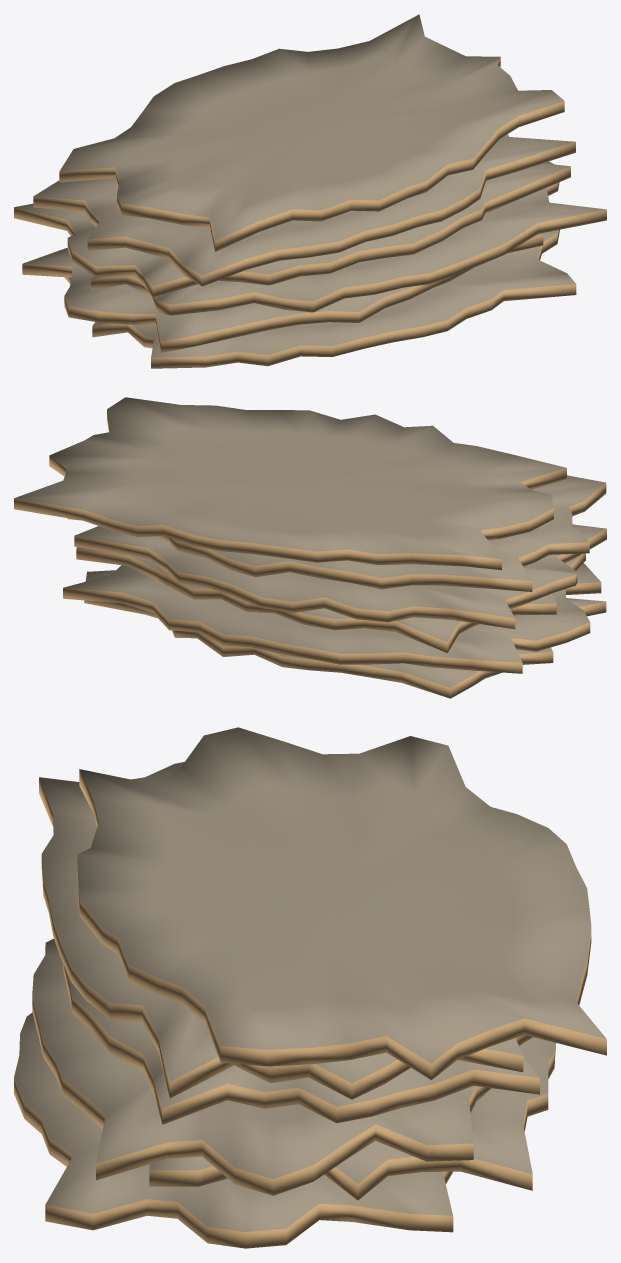
Rendered from w3d_pelt_wolf_hide_l.glb.
The picture shows the model from 3 angles, top to bottom: view 1: azimuth 30°, elevation 25°; view 2: azimuth 150°, elevation 25°; view 3: azimuth 270°, elevation 25°; orthographic projection. The views are drawn at different scales.
Parts seen in each view (by area): view 1: w3d_pelt_wolf_hide_l; view 2: w3d_pelt_wolf_hide_l; view 3: w3d_pelt_wolf_hide_l.
Part boxes in pixels (x1=…): w3d_pelt_wolf_hide_l: x1=14, y1=14, x2=606, y2=368; w3d_pelt_wolf_hide_l: x1=14, y1=397, x2=606, y2=698; w3d_pelt_wolf_hide_l: x1=14, y1=727, x2=606, y2=1248.
Bounding box in the file's own units: 0.8466 × 0.2356 × 0.5858.
